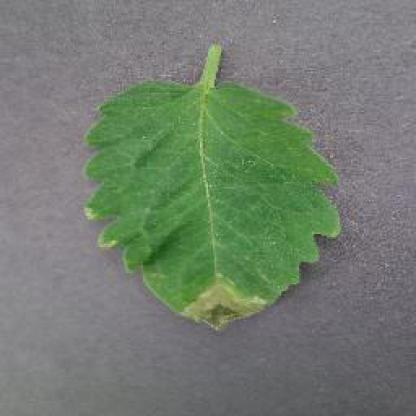bad leaf: (106, 60, 308, 322)
